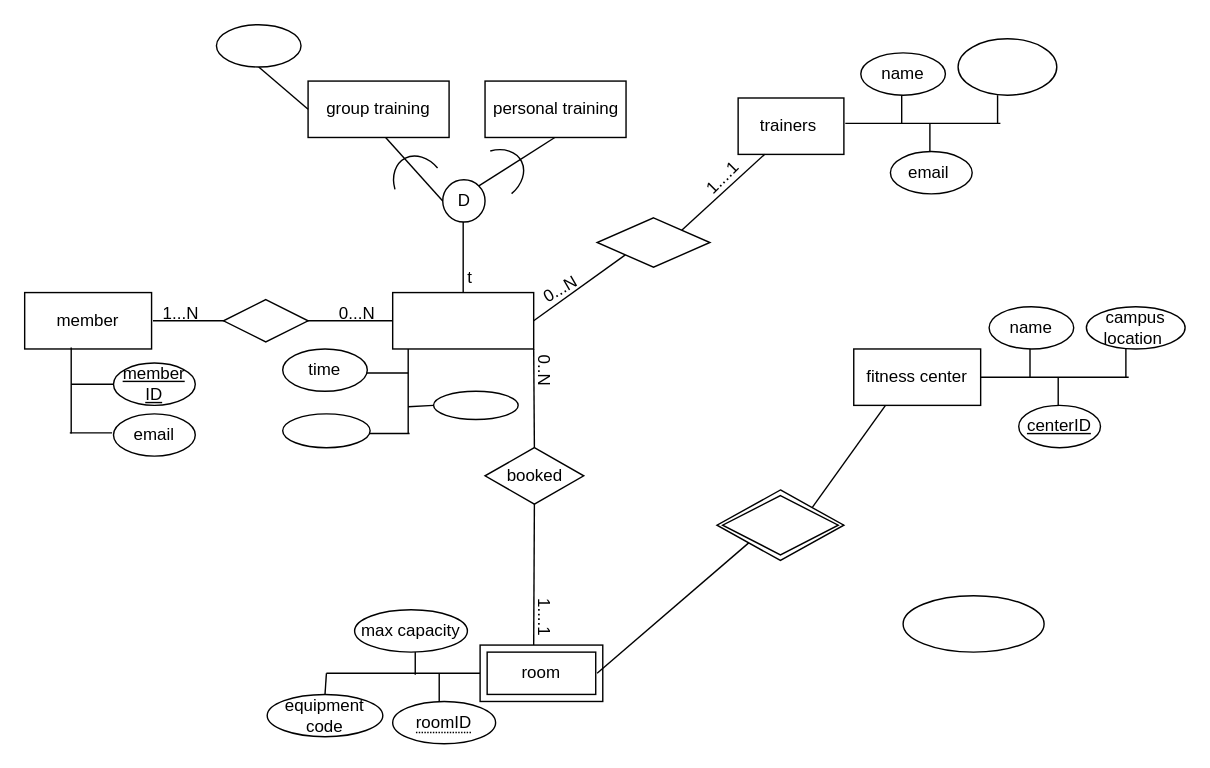
Some shapes in this 1210 by 768 pixel diagram are drawn without their labels. The centre of each missing label's shape, as x and y in pixels:
Attribute: point 973,623
belongs to: point 780,524
certification number: point 1007,66
date: point 475,404
lead: point 653,241
registers: point 265,320
session: point 462,320
sessionID: point 325,430
type: point 258,45
